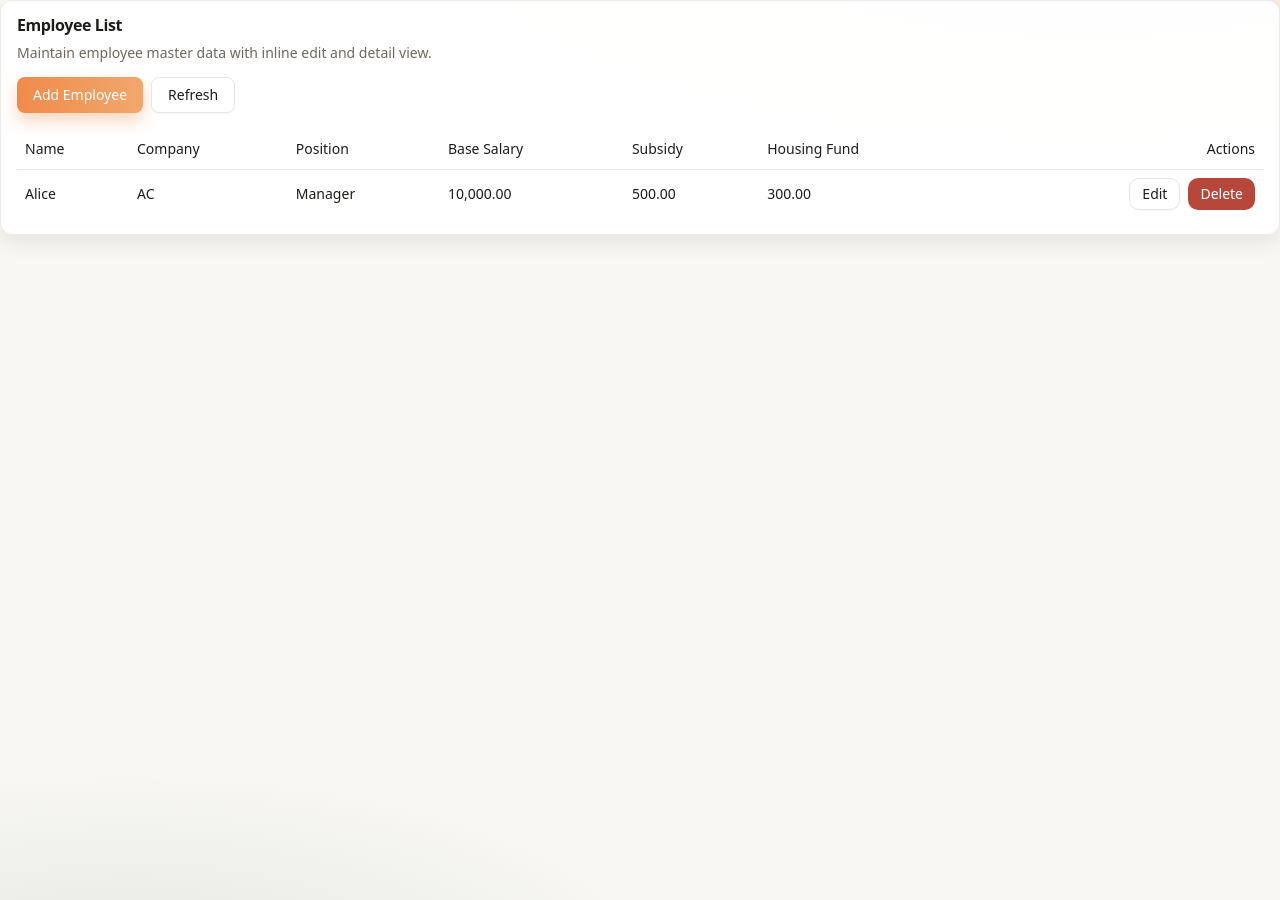
Test: P1 employee list page › allows jumping from detail panel to inline edit
Click the cell "Alice": (40, 193) [17,169,129,218]
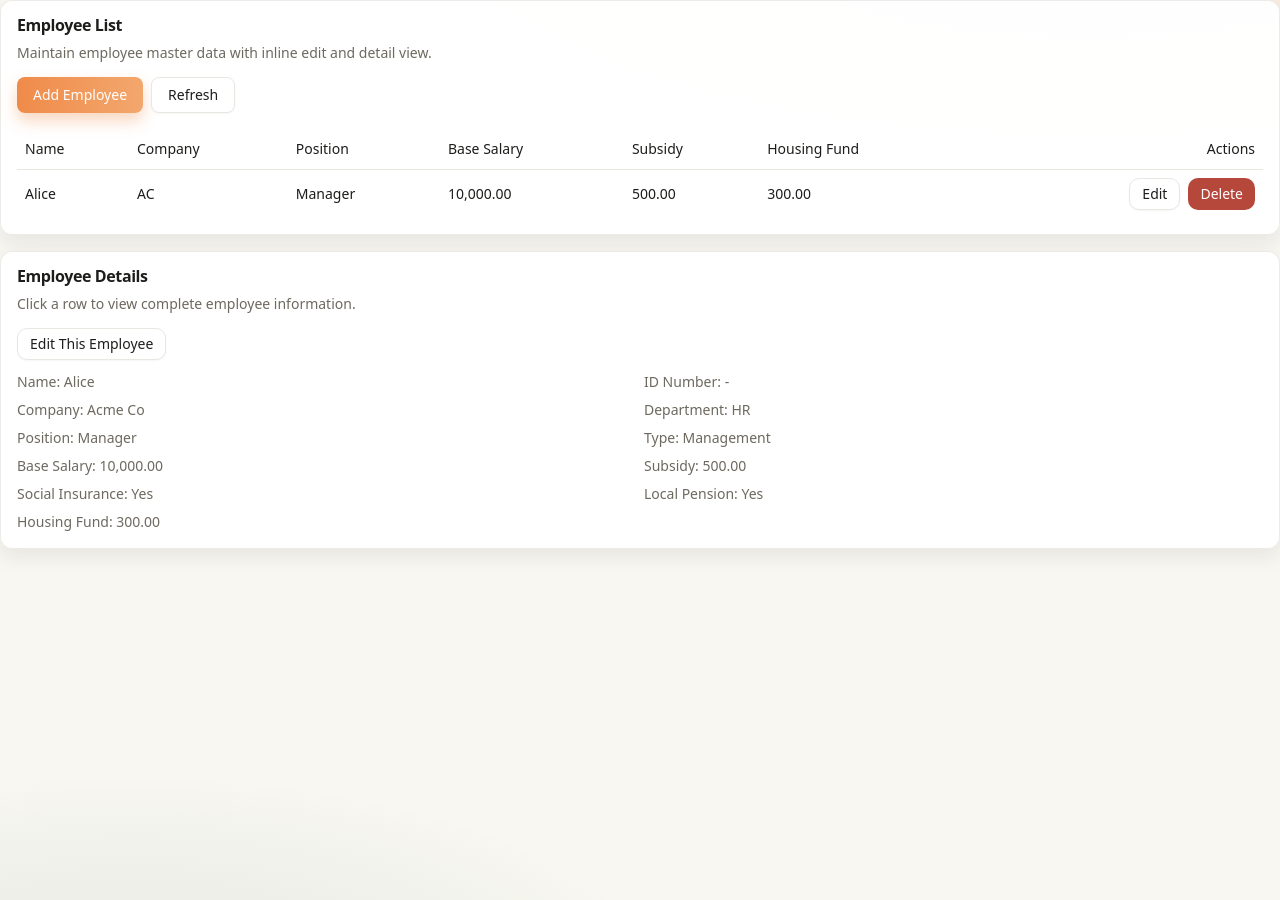
Click the button "Edit This Employee": (92, 344) [17,328,166,360]
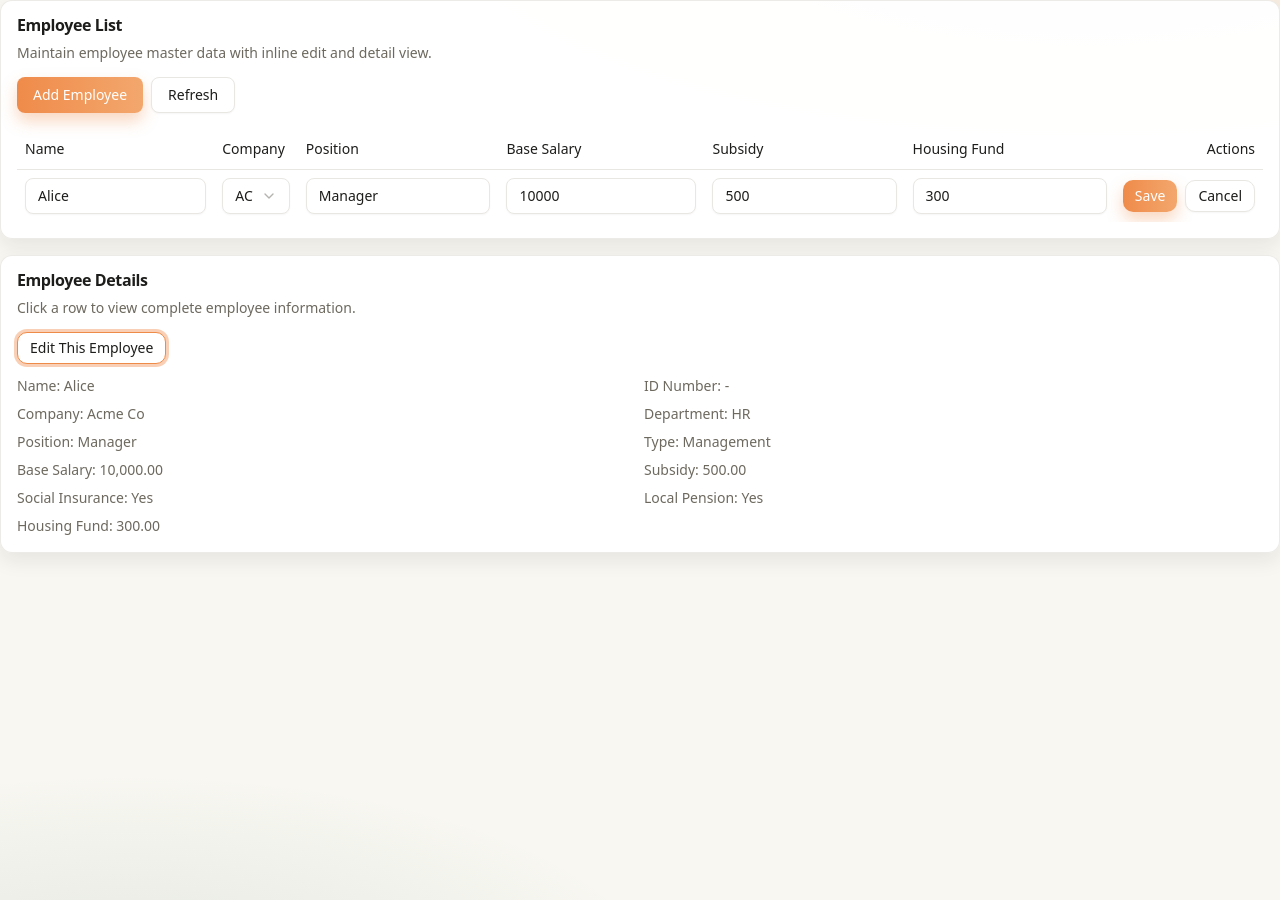
Result: the 1st field showing "Alice" is shown at [25,178,206,214]
